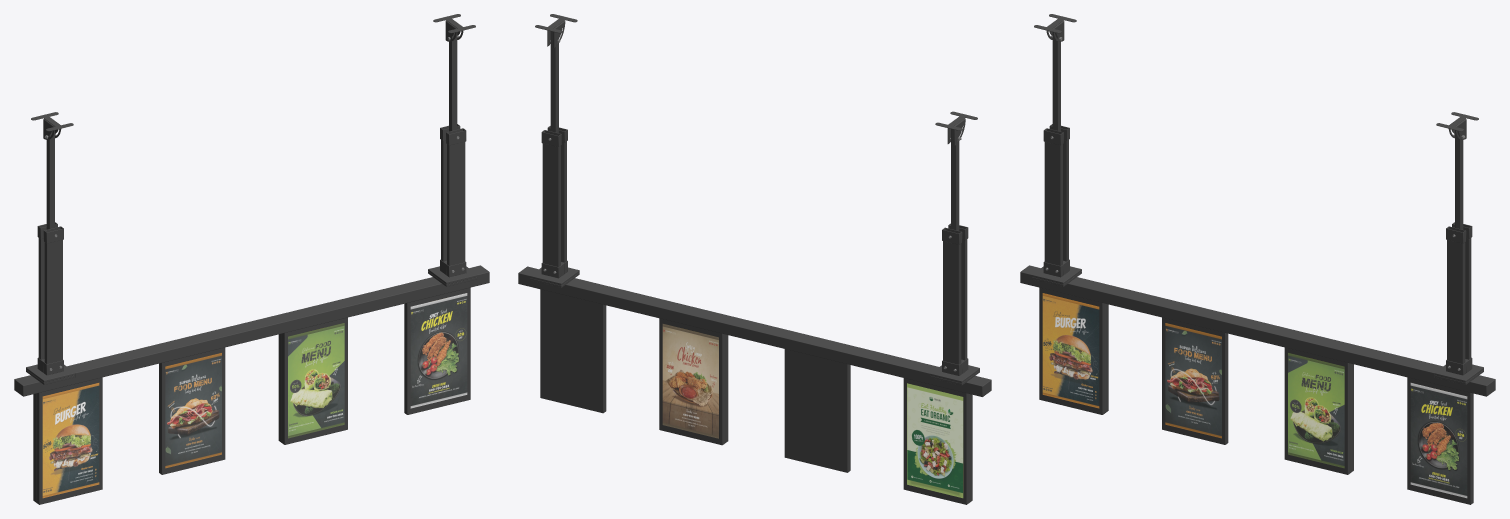
Rendered from hanging_display.glb.
3 renders of one model, left to right at view 1: azimuth 30°, elevation 25°; view 2: azimuth 150°, elevation 25°; view 3: azimuth 330°, elevation 25°, orthographic.
Visible parts, largest first — view 1: glass, frame, led, screen_4, screen_1, screen_2, screen_3; view 2: frame, led, glass, screen_6, screen_5; view 3: glass, frame, led, screen_1, screen_4, screen_2, screen_3.
Part boxes in pixels (x1,y1,x2,y2): glass: [43, 293, 466, 497]; frame: [14, 14, 489, 396]; led: [33, 287, 470, 504]; screen_4: [410, 293, 467, 408]; screen_1: [42, 383, 99, 498]; screen_2: [165, 353, 221, 468]; screen_3: [288, 323, 344, 438]; frame: [518, 14, 991, 396]; led: [540, 289, 972, 504]; glass: [663, 324, 962, 497]; screen_6: [662, 324, 718, 438]; screen_5: [907, 383, 963, 498]; glass: [1043, 293, 1466, 497]; frame: [1020, 14, 1495, 396]; led: [1039, 287, 1473, 504]; screen_1: [1042, 293, 1099, 408]; screen_4: [1410, 383, 1467, 498]; screen_2: [1165, 323, 1221, 438]; screen_3: [1288, 353, 1344, 468].
Bounding box in the file's own units: 1.12 × 0.8682 × 0.082.
10 materials, 7 textured.
